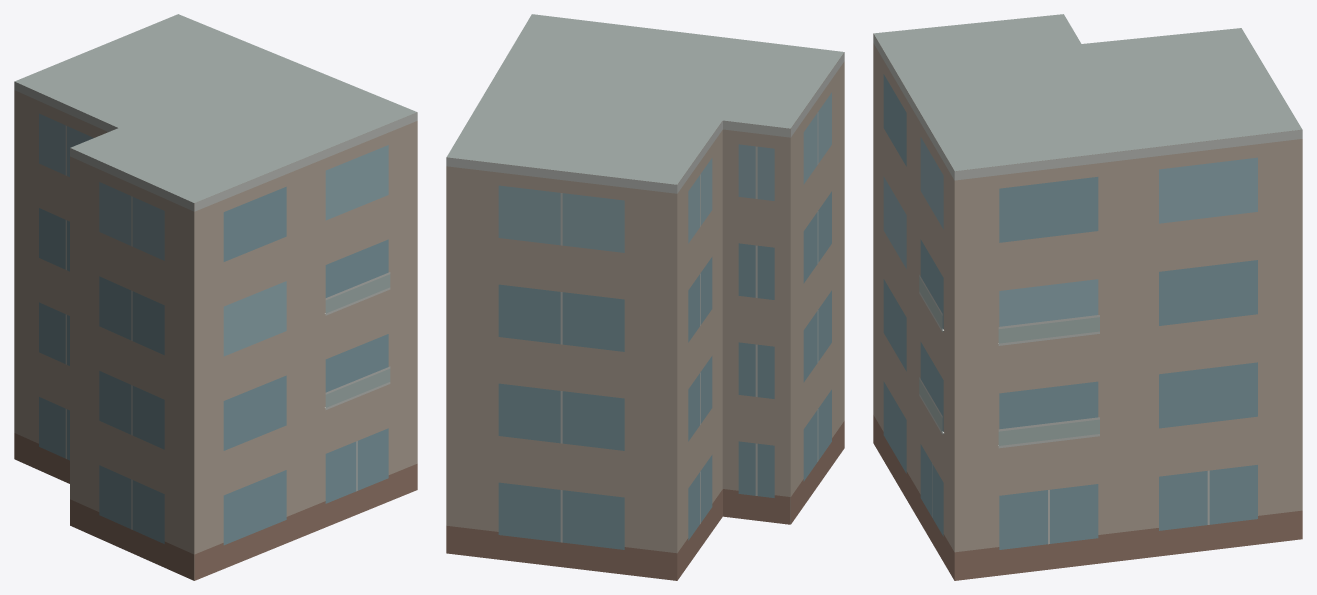
The model's file is survey-upis-32496970.glb.
3 renders of one model, left to right at view 1: azimuth 30°, elevation 25°; view 2: azimuth 150°, elevation 25°; view 3: azimuth 270°, elevation 25°, orthographic. The views are drawn at different scales.
Visible parts, largest first — view 1: survey-upis-32496970.tmp; view 2: survey-upis-32496970.tmp; view 3: survey-upis-32496970.tmp.
Boxes of the visible parts, box(x1,y1,x2,y2) form: survey-upis-32496970.tmp: box(14, 14, 417, 580); survey-upis-32496970.tmp: box(446, 14, 844, 580); survey-upis-32496970.tmp: box(873, 14, 1302, 580).
Size of the model in its own units: 8.86 by 10.75 by 10.22.
